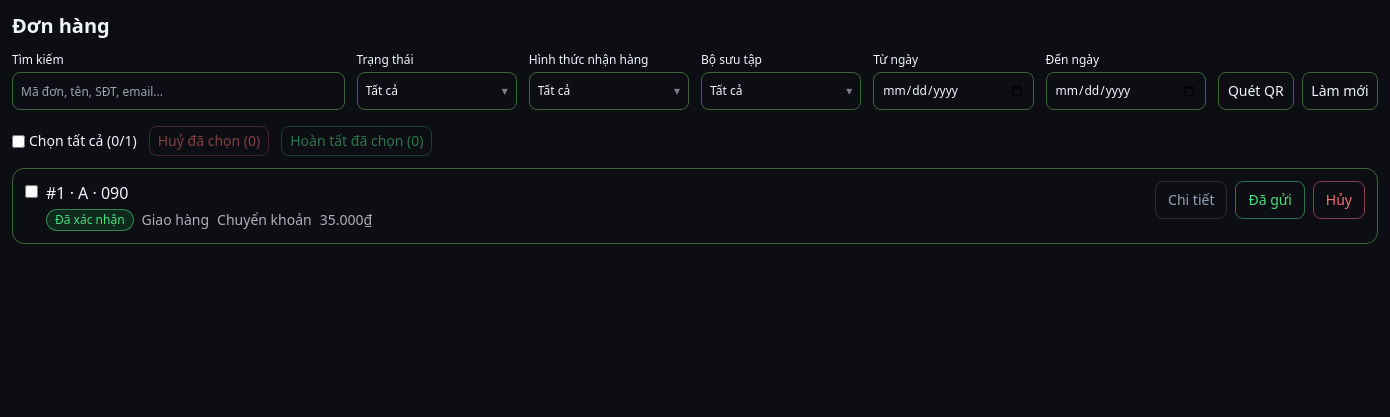
Test: AdminOrders - semantic status/action styling (Admin UI plan) › does not render a stray '0' after the price for a non-gift item (mysql2 returns is_gift as the number 0, not false)
This screenshot has width=1390, height=417.
What coordinates should you click on to do the following:
click the button "Chi tiết"
I would click on:
 (1191, 200)
Its box is [1155, 181, 1228, 219].
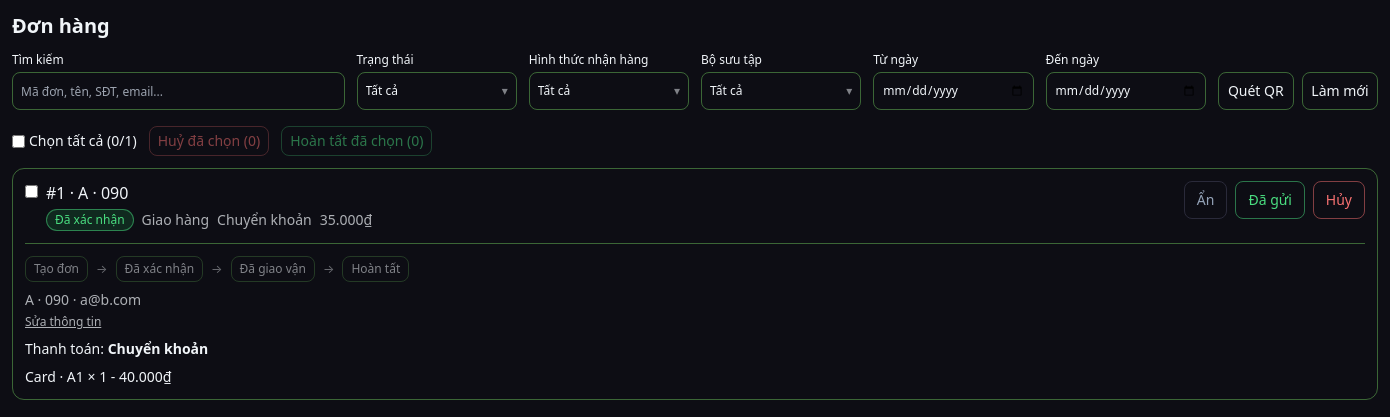
Result: the text "40.000₫" is shown at [119, 367, 171, 386]
